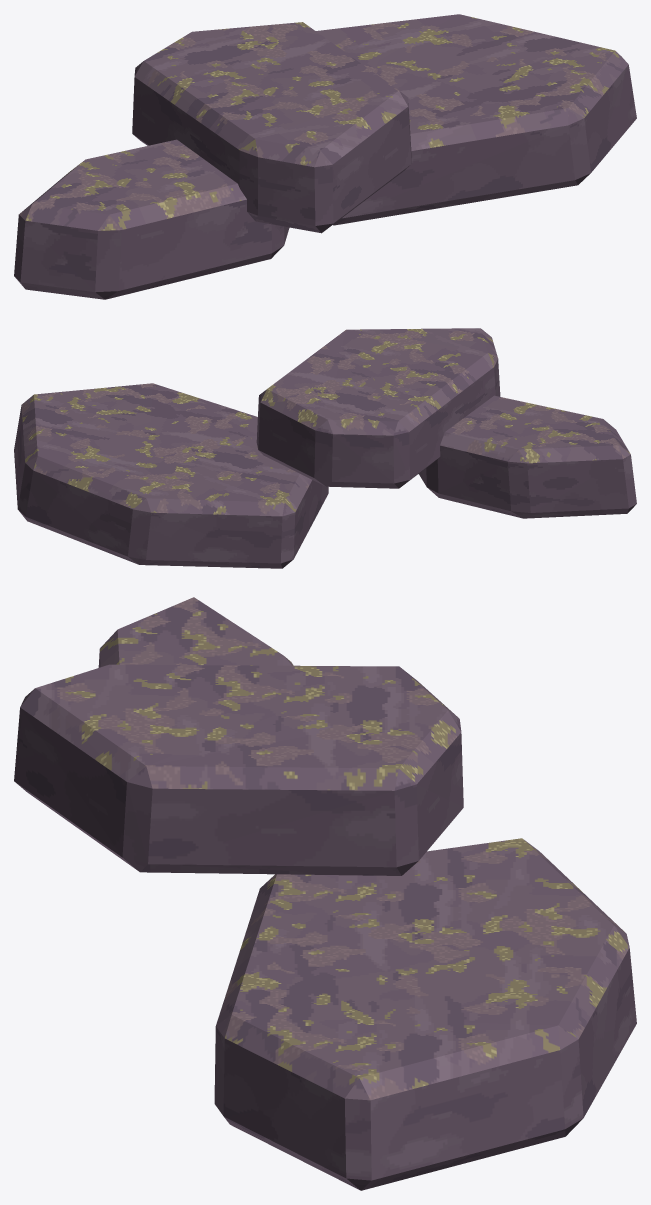
Rendered from P03_Flat_stones.fbx.
3 renders of one model, top to bottom at view 1: azimuth 30°, elevation 25°; view 2: azimuth 150°, elevation 25°; view 3: azimuth 270°, elevation 25°, orthographic. The views are drawn at different scales.
Parts seen in each view (by area): view 1: P03_0, P03_2, P03_1; view 2: P03_0, P03_2, P03_1; view 3: P03_0, P03_2, P03_1.
Part boxes in pixels (left/top/right/bottom): P03_0: left=316, top=14, right=636, bottom=225; P03_2: left=132, top=22, right=411, bottom=233; P03_1: left=14, top=139, right=289, bottom=299; P03_0: left=14, top=383, right=328, bottom=568; P03_2: left=256, top=328, right=500, bottom=488; P03_1: left=419, top=395, right=636, bottom=518; P03_0: left=214, top=838, right=636, bottom=1190; P03_2: left=14, top=664, right=463, bottom=875; P03_1: left=98, top=597, right=293, bottom=667.
Size of the model in its own units: 0.7416 by 0.1786 by 0.4457.
